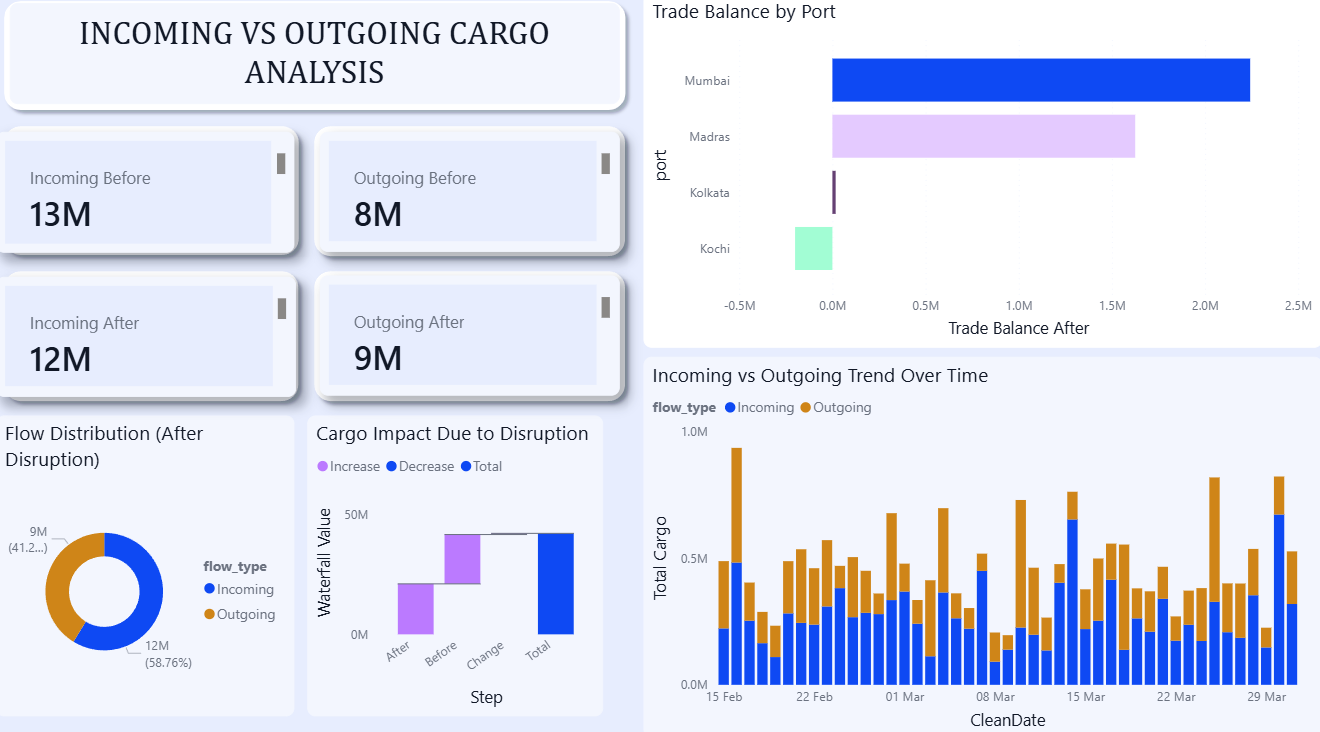

What the dashboard file says about the page in this screenshot:
{"tool":"powerbi","page":{"name":"INCOMING VS OUTGOING CARGO ANALYSIS","canvas":[1280,720],"ordinal":1},"visuals":[{"type":"shape","box":[0,120.9,300,140],"z":0},{"type":"shape","box":[299.6,120.9,315.7,141.1],"z":1000},{"type":"shape","box":[0,260.6,299.6,141.1],"z":2000},{"type":"shape","box":[299.6,260.6,315.7,141.1],"z":3000},{"type":"cardVisual","title":"Outgoing  After","fields":{"Data":["cargo powerbi_export.Incoming Before","cargo powerbi_export.DryBulk Before","cargo powerbi_export.Container Before","cargo powerbi_export.Tanker Before"]},"box":[0,133.9,288.3,117],"z":4000},{"type":"shape","box":[0,0,615.3,120.6],"z":5000},{"type":"clusteredBarChart","title":"Trade Balance by Port","fields":{"Category":["cargo powerbi_export.port"],"Y":["cargo powerbi_export.Trade Balance After"]},"box":[624.9,0,655.1,342.6],"z":6000},{"type":"columnChart","title":"Incoming vs Outgoing Trend Over Time","fields":{"Category":["cargo powerbi_export.CleanDate"],"Y":["cargo powerbi_export.Total Cargo"],"Series":["cargo powerbi_export.flow_type"]},"box":[624.9,351.1,655.1,369.2],"z":7000},{"type":"donutChart","title":"Flow Distribution (After Disruption)","fields":{"Category":["cargo powerbi_export.flow_type"],"Y":["cargo powerbi_export.Total Cargo"]},"box":[0,407.8,288.3,290.8],"z":8000},{"type":"waterfallChart","title":"Cargo Impact Due to Disruption","fields":{"Category":["Waterfall Steps.Step"],"Y":["AfterCargoMix.Waterfall Value"]},"box":[300.4,407.8,285.9,290.8],"z":9000},{"type":"cardVisual","title":"Outgoing  After","fields":{"Data":["cargo powerbi_export.Outgoing Before","cargo powerbi_export.Tanker Outgoing Before","cargo powerbi_export.Container Outgoing Before","cargo port_cargo.DryBulk Outgoing Before"]},"box":[312.5,133.9,289.5,115.8],"z":10000},{"type":"cardVisual","title":"Outgoing  After","fields":{"Data":["cargo powerbi_export.Incoming After","cargo powerbi_export.Container Incoming After","cargo powerbi_export.DryBulk Incoming After","cargo powerbi_export.Tanker Incoming After"]},"box":[0,273.9,289.5,115.8],"z":11000},{"type":"cardVisual","title":"Outgoing  After","fields":{"Data":["cargo powerbi_export.Outgoing After","cargo powerbi_export.DryBulk Outgoing After","cargo powerbi_export.Container Outgoing After","cargo powerbi_export.Tanker Outgoing After"]},"box":[312.5,272.7,289.5,115.8],"z":12000},{"type":"textbox","box":[13.3,9.7,588.7,97.7],"z":13000}]}

Visuals, with their boxes in screenshot pixels (x1, y1, x2, y2), scaled from the page's 1280x720 canvas onto the 1320x732 screenshot:
shape: region(0, 123, 309, 265)
shape: region(309, 123, 635, 266)
shape: region(0, 265, 309, 408)
shape: region(309, 265, 635, 408)
"Outgoing  After" cardVisual: region(0, 136, 297, 255)
shape: region(0, 0, 635, 123)
"Trade Balance by Port" clusteredBarChart: region(644, 0, 1319, 348)
"Incoming vs Outgoing Trend Over Time" columnChart: region(644, 357, 1319, 731)
"Flow Distribution (After Disruption)" donutChart: region(0, 415, 297, 710)
"Cargo Impact Due to Disruption" waterfallChart: region(310, 415, 605, 710)
"Outgoing  After" cardVisual: region(322, 136, 621, 254)
"Outgoing  After" cardVisual: region(0, 278, 299, 396)
"Outgoing  After" cardVisual: region(322, 277, 621, 395)
textbox: region(14, 10, 621, 109)
